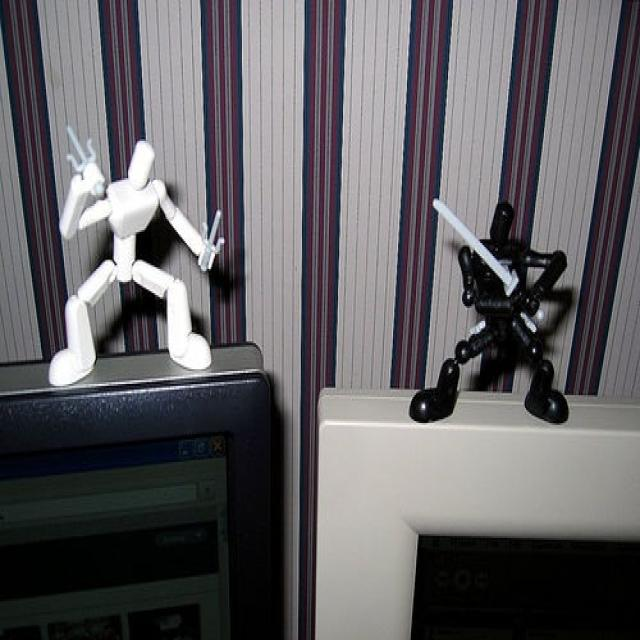tvmonitor: (311, 384, 639, 638), (0, 347, 280, 638)
